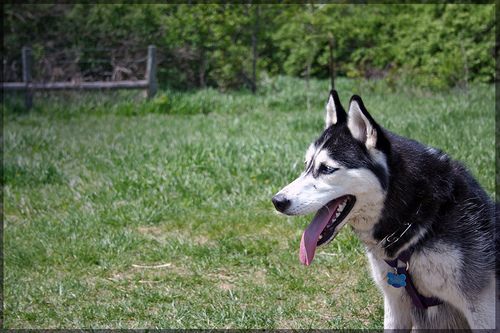dog: (272, 91, 498, 330)
